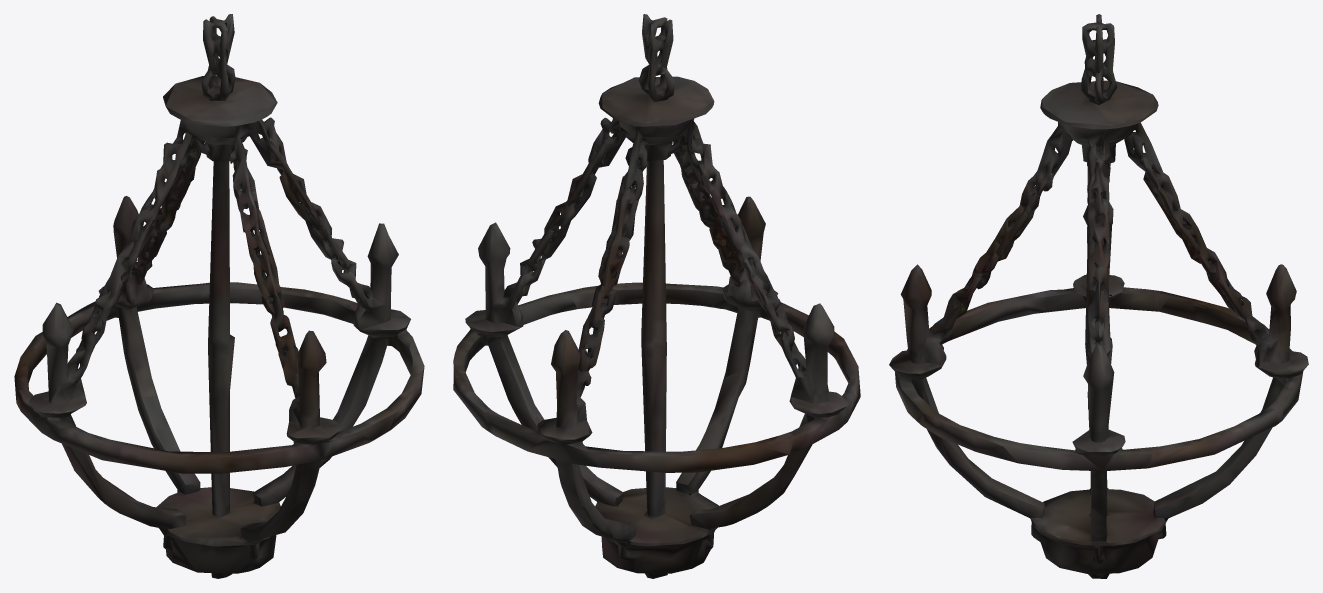
The model's file is weathered-iron-chandelier-v002.glb.
3 renders of one model, left to right at view 1: azimuth 30°, elevation 25°; view 2: azimuth 150°, elevation 25°; view 3: azimuth 270°, elevation 25°, orthographic.
Visible parts, largest first — view 1: weathered-iron-chandelier; view 2: weathered-iron-chandelier; view 3: weathered-iron-chandelier.
Part boxes in pixels (x1,y1,x2,y2): weathered-iron-chandelier: (14,14,424,578); weathered-iron-chandelier: (453,14,860,578); weathered-iron-chandelier: (889,14,1308,578).
Bounding box in the file's own units: 0.6939 × 0.9952 × 0.681.
1 material, 1 textured.
